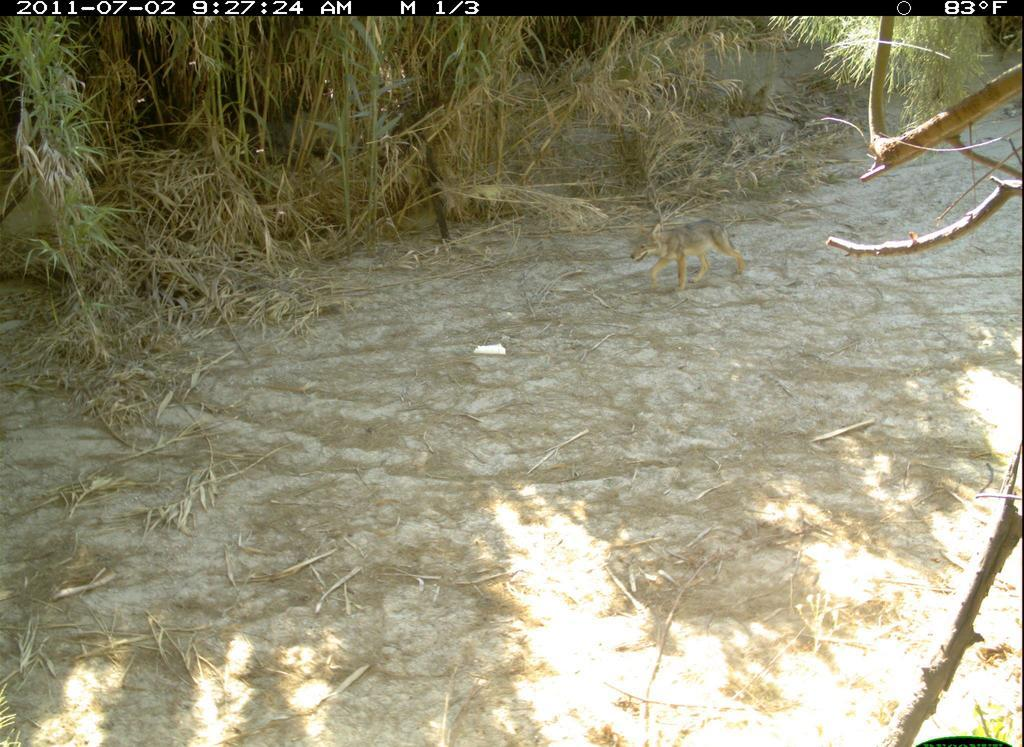coyote: (626, 209, 763, 289)
